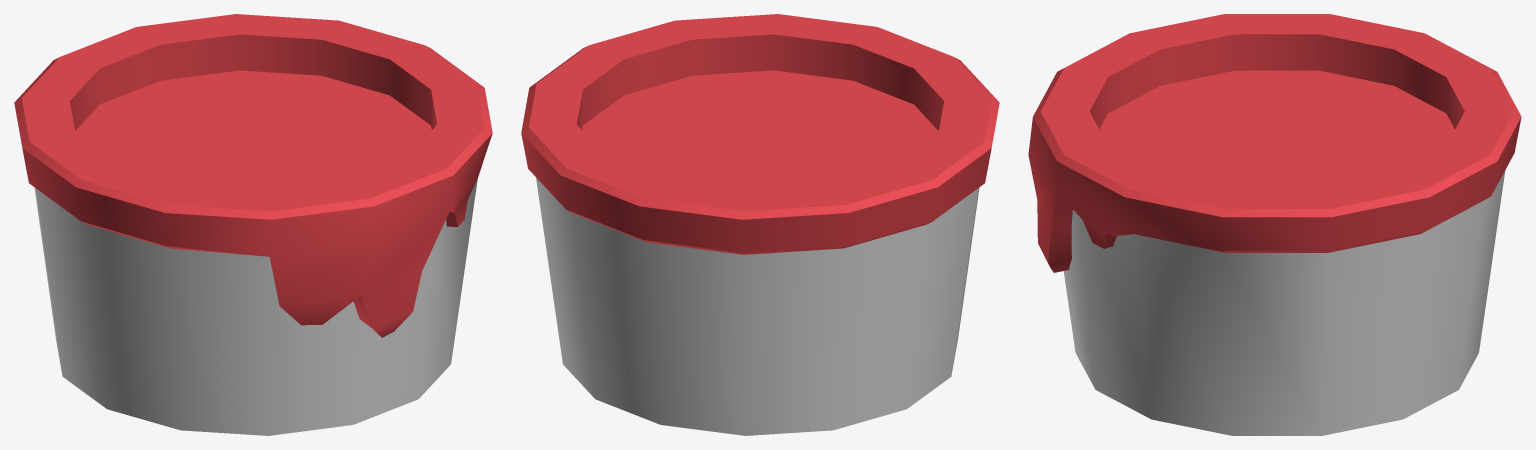
The model's file is pot_pintura.fbx.
3 views of the same model, side by side, from view 1: azimuth 30°, elevation 25°; view 2: azimuth 150°, elevation 25°; view 3: azimuth 270°, elevation 25° (orthographic).
Parts seen in each view (by area): view 1: Cylinder.015; view 2: Cylinder.015; view 3: Cylinder.015.
Part boxes in pixels (bbox=[...]): Cylinder.015: bbox=[14, 14, 492, 435]; Cylinder.015: bbox=[521, 14, 999, 435]; Cylinder.015: bbox=[1028, 14, 1521, 435].
Bounding box in the file's own units: 38.56 × 21.56 × 39.92.
